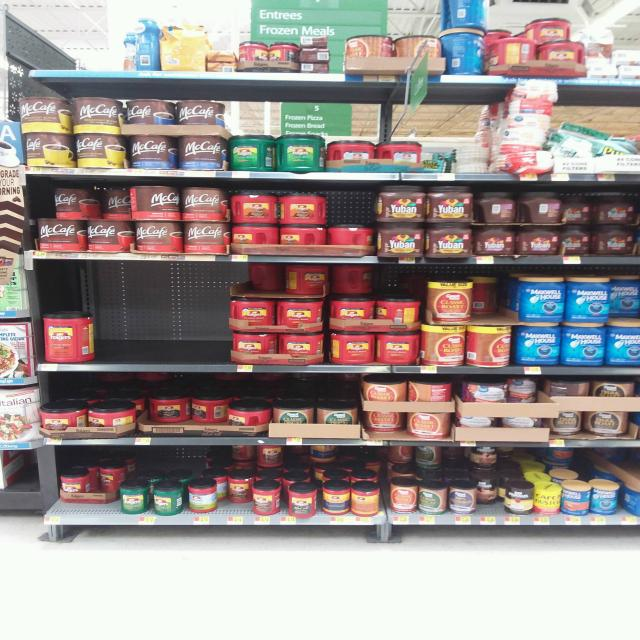void: (98, 267, 230, 360), (38, 21, 134, 69)
